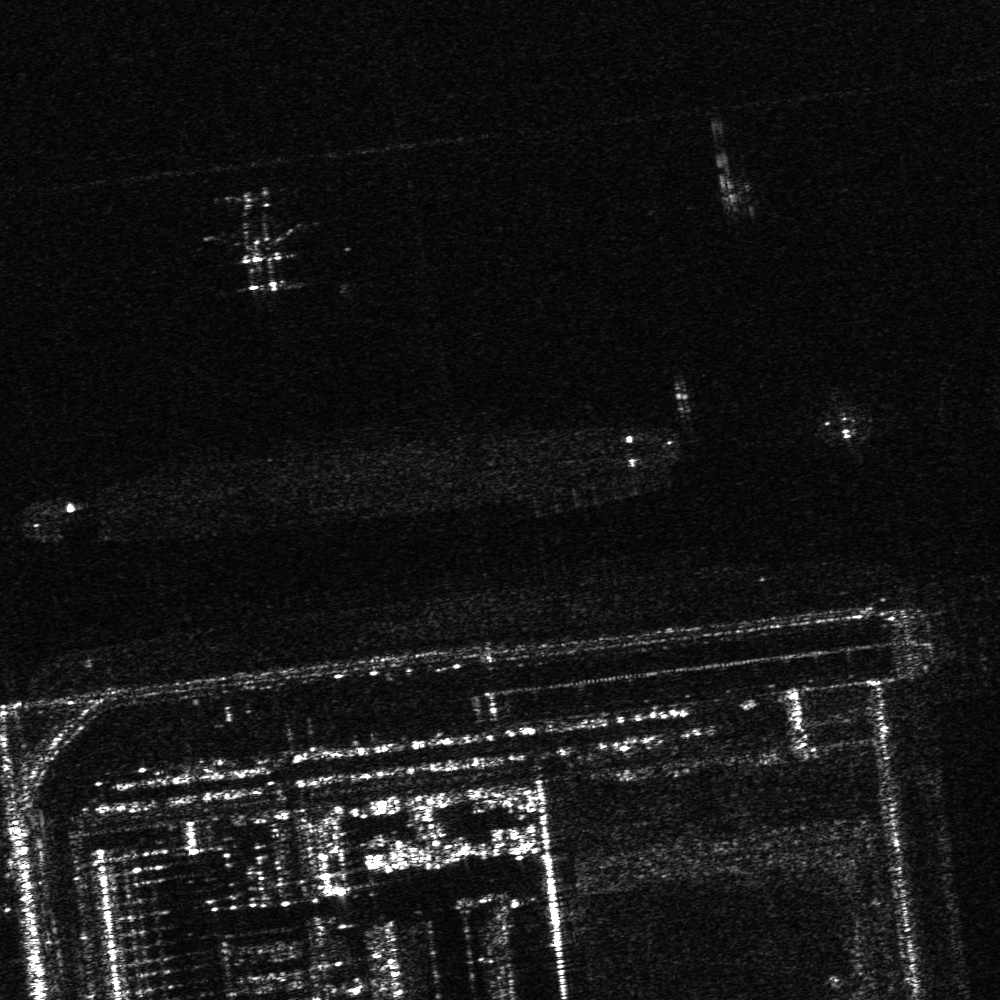A330: (209, 180, 316, 291), (817, 392, 869, 439)
